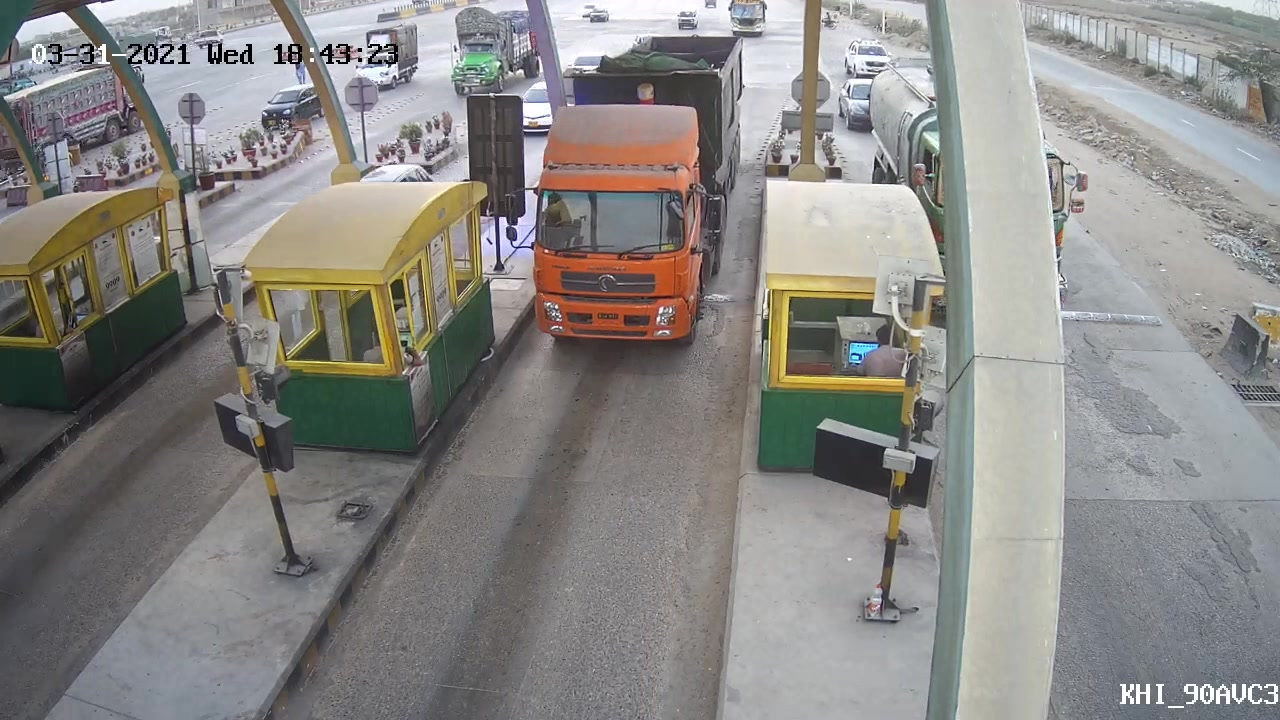F5: (500, 69, 738, 348)
